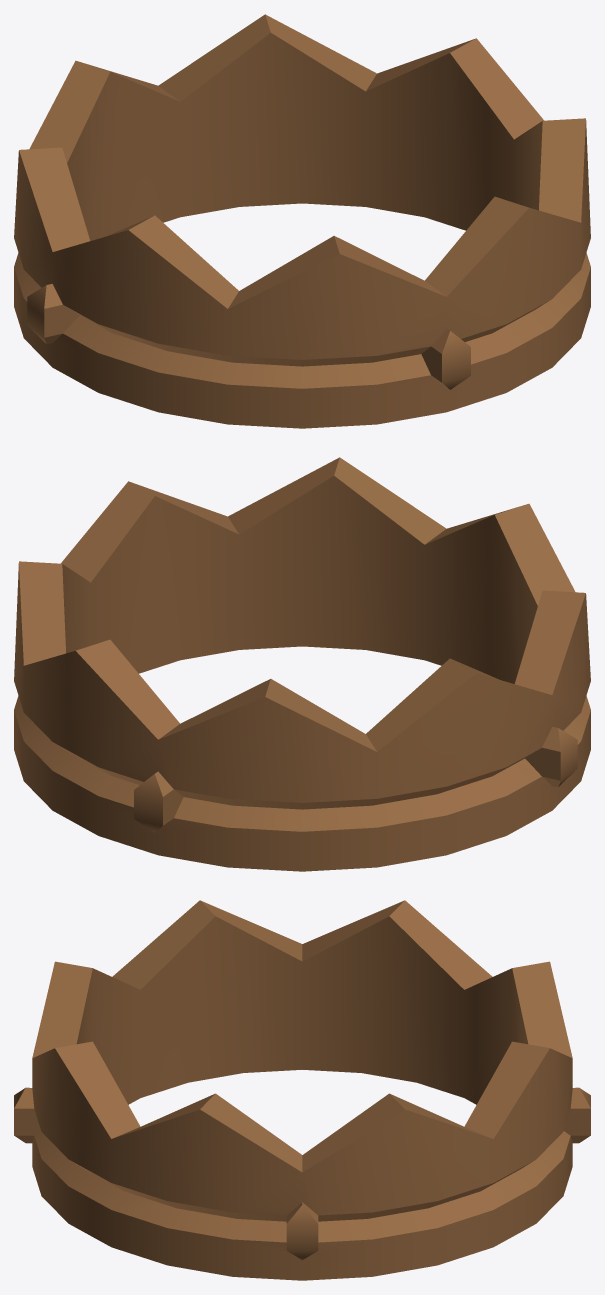
The model's file is crown.gltf.glb.
The picture shows the model from 3 angles, top to bottom: view 1: azimuth 30°, elevation 25°; view 2: azimuth 150°, elevation 25°; view 3: azimuth 270°, elevation 25°; orthographic projection. The views are drawn at different scales.
Visible parts, largest first — view 1: crown; view 2: crown; view 3: crown.
Part boxes in pixels (box(x1,y1,x2,y2)): crown: box(14, 14, 590, 428); crown: box(14, 457, 590, 871); crown: box(14, 900, 590, 1280).
Bounding box in the file's own units: 1.16 × 0.3576 × 1.16.
